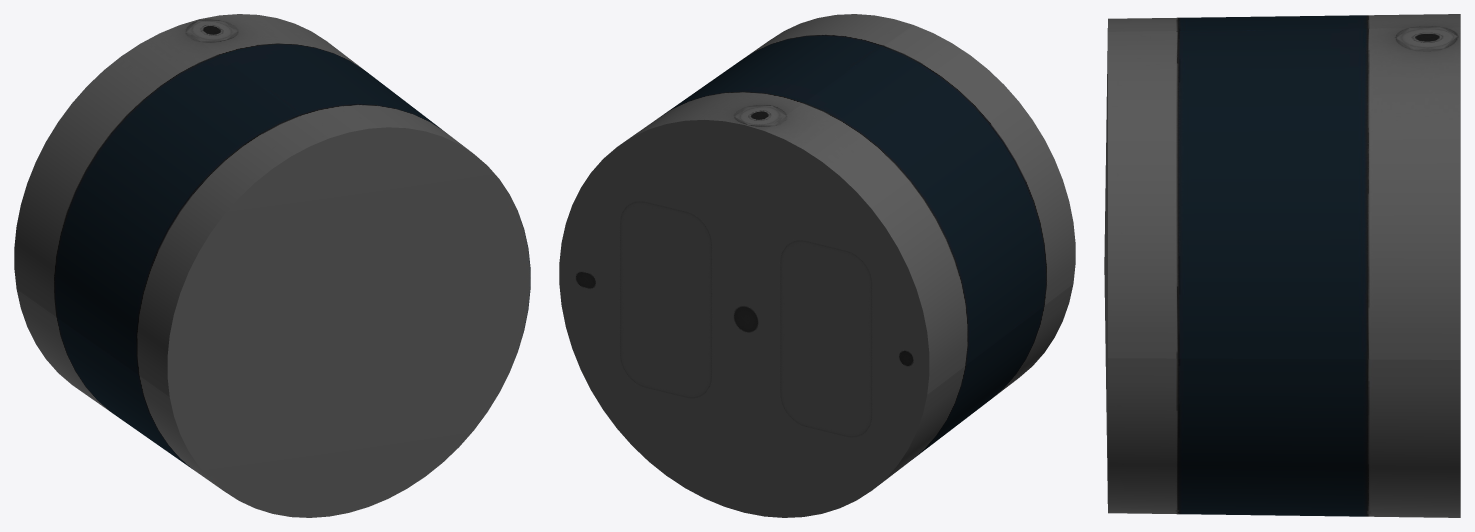
Rendered from lidar.obj.
3 renders of one model, left to right at view 1: azimuth 30°, elevation 25°; view 2: azimuth 150°, elevation 25°; view 3: azimuth 270°, elevation 25°, orthographic. The views are drawn at different scales.
Size of the model in its own units: 0.1026 by 0.1028 by 0.0727.
